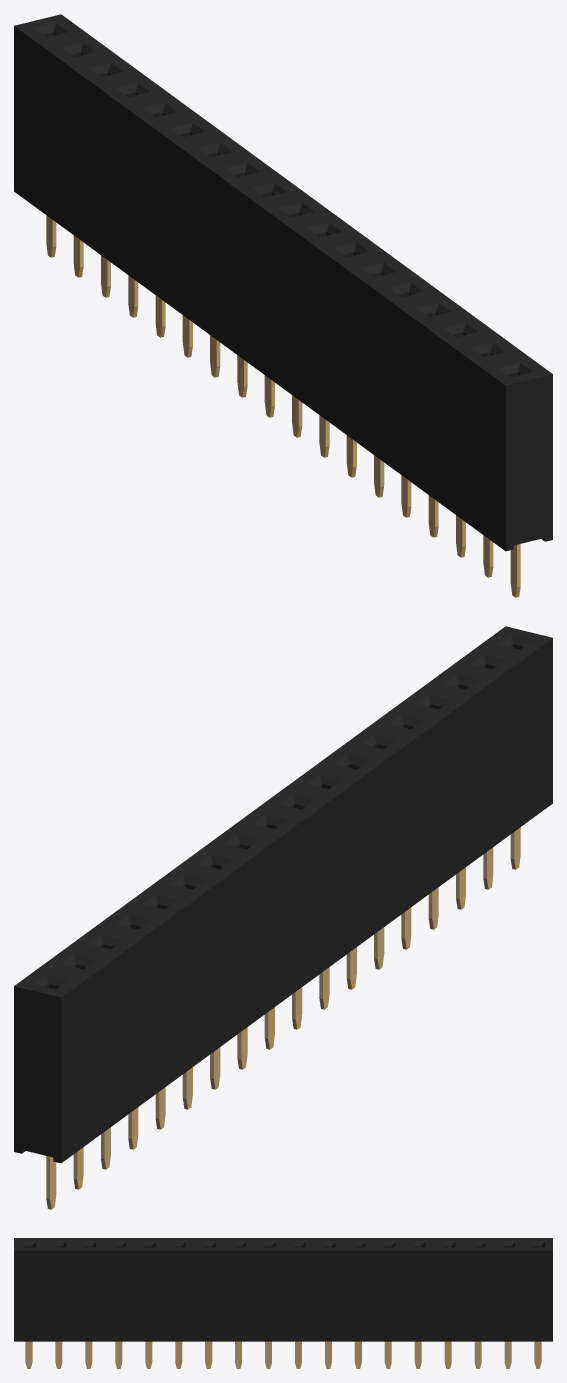
File: kc-pinsocket_1x18_p2.54mm_vertical.glb
3 renders of one model, top to bottom at view 1: azimuth 30°, elevation 25°; view 2: azimuth 150°, elevation 25°; view 3: azimuth 270°, elevation 25°, orthographic. The views are drawn at different scales.
Parts seen in each view (by area): view 1: 0_0_0_0, 0.75_0.5_0.25_0.9; view 2: 0_0_0_0, 0.75_0.5_0.25_0.9; view 3: 0_0_0_0, 0.75_0.5_0.25_0.9.
Boxes of the visible parts, bbox=[...] form: 0_0_0_0: bbox=[14, 14, 552, 551]; 0.75_0.5_0.25_0.9: bbox=[46, 215, 520, 597]; 0_0_0_0: bbox=[14, 626, 552, 1163]; 0.75_0.5_0.25_0.9: bbox=[46, 827, 520, 1209]; 0_0_0_0: bbox=[14, 1238, 552, 1341]; 0.75_0.5_0.25_0.9: bbox=[25, 1341, 541, 1368].
Bounding box in the file's own units: 0.2539 × 1.16 × 4.57.
